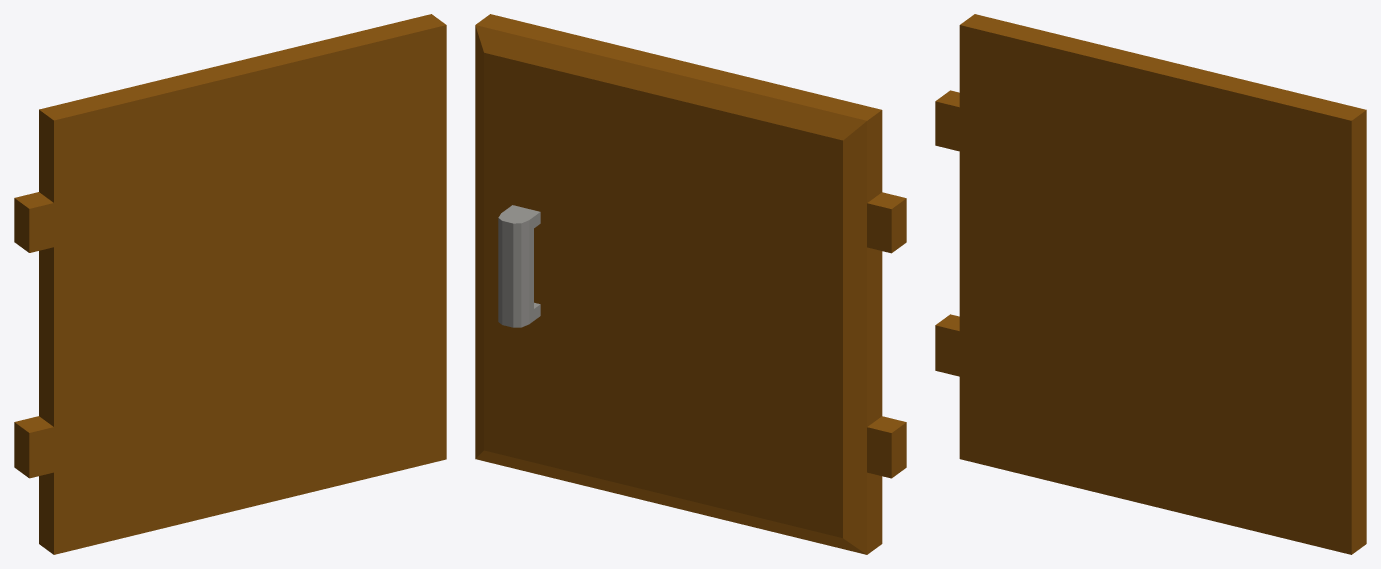
Rendered from TV_Stand_Door_Right.fbx.
The picture shows the model from 3 angles, left to right: view 1: azimuth 30°, elevation 25°; view 2: azimuth 150°, elevation 25°; view 3: azimuth 330°, elevation 25°; orthographic projection.
Parts seen in each view (by area): view 1: Cube.054; view 2: Cube.054; view 3: Cube.054.
Boxes of the visible parts, x1,y1,x2,y2 form: Cube.054: [14, 14, 446, 554]; Cube.054: [475, 14, 906, 554]; Cube.054: [935, 14, 1366, 554].
Size of the model in its own units: 78.54 by 78.2 by 13.53.
